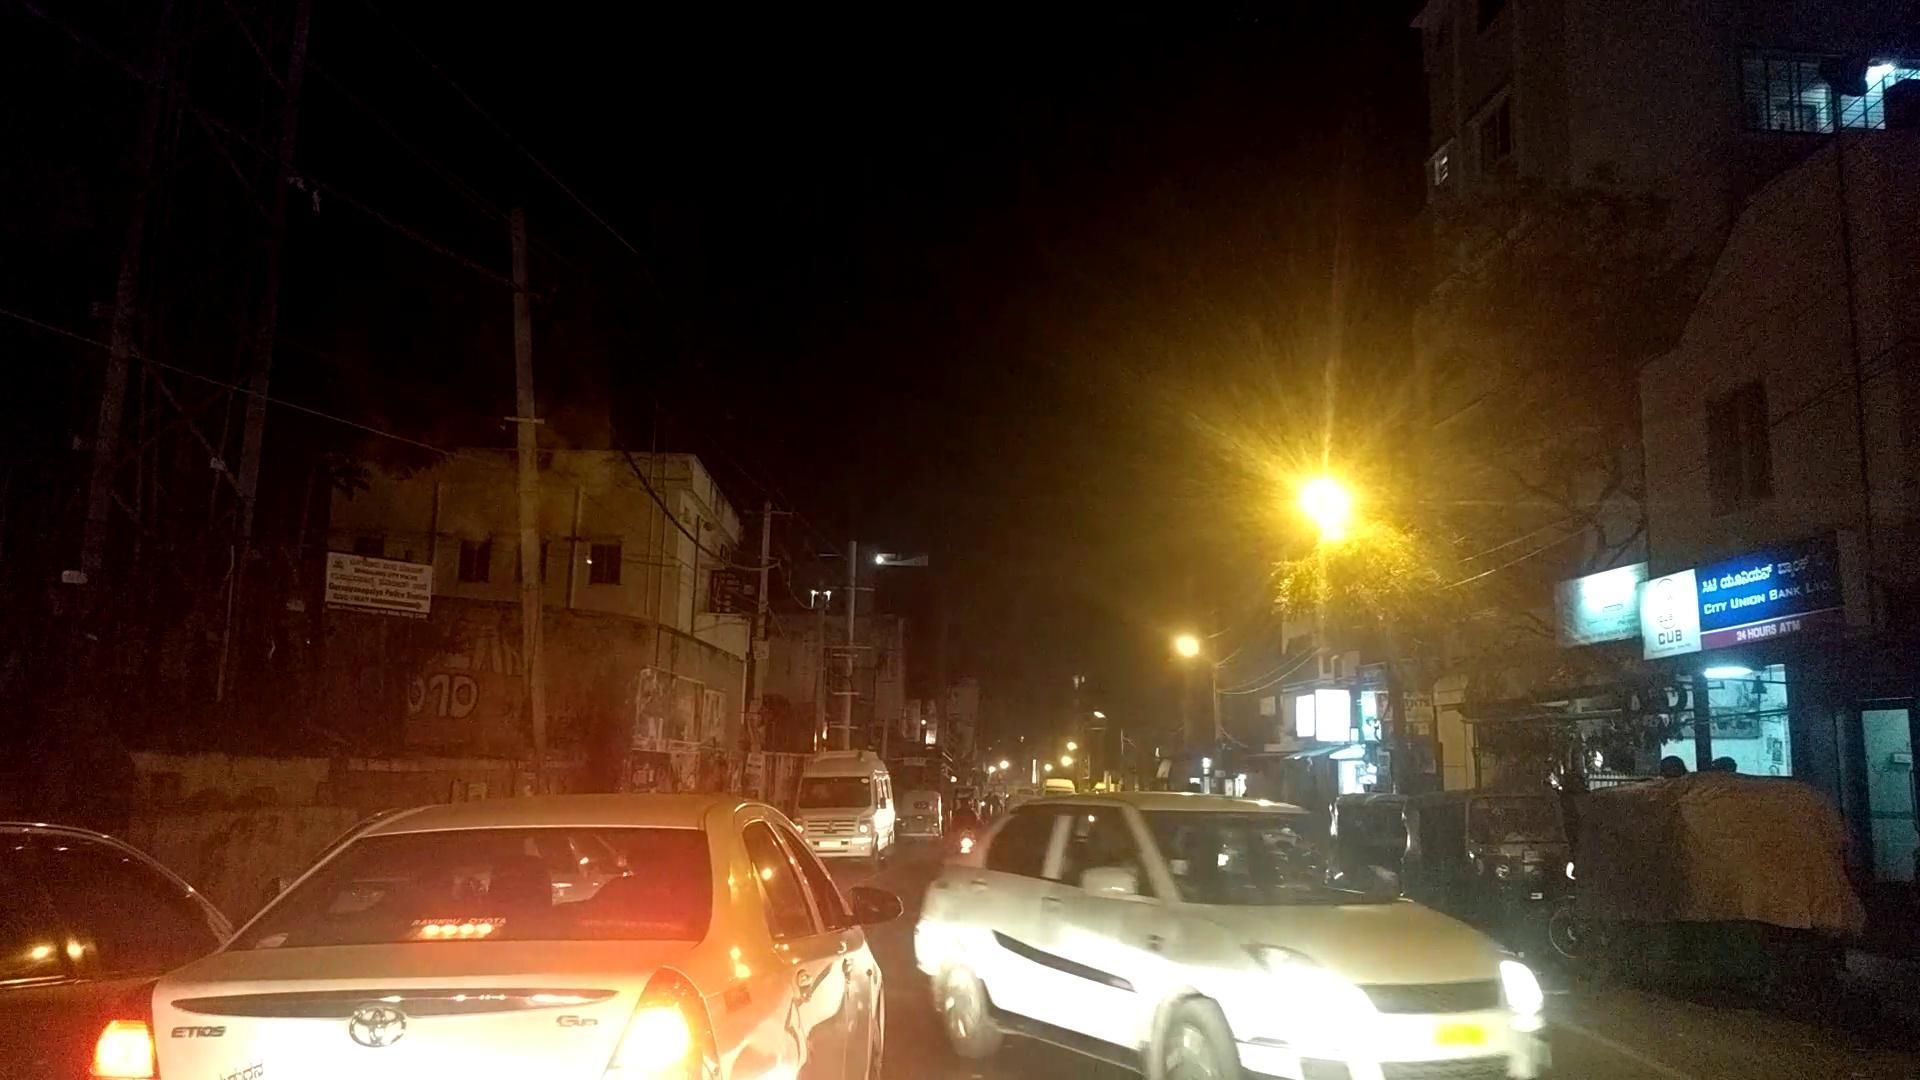on: (1180, 402, 1486, 636)
